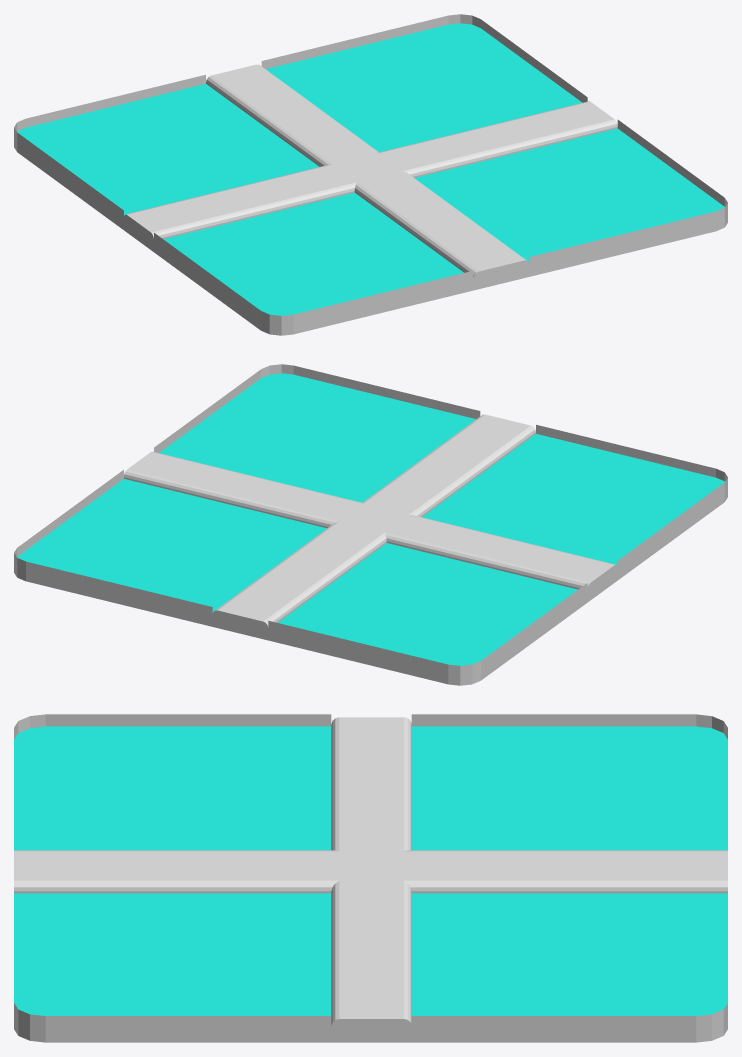
File: fish.glb
The picture shows the model from 3 angles, top to bottom: view 1: azimuth 30°, elevation 25°; view 2: azimuth 150°, elevation 25°; view 3: azimuth 270°, elevation 25°; orthographic projection. The views are drawn at different scales.
Parts seen in each view (by area): view 1: 平面; view 2: 平面; view 3: 平面.
Boxes of the visible parts, x1,y1,x2,y2 form: 平面: [14, 14, 727, 335]; 平面: [14, 364, 727, 685]; 平面: [14, 714, 727, 1042].
Size of the model in its own units: 9.15 by 0.3748 by 9.15.
